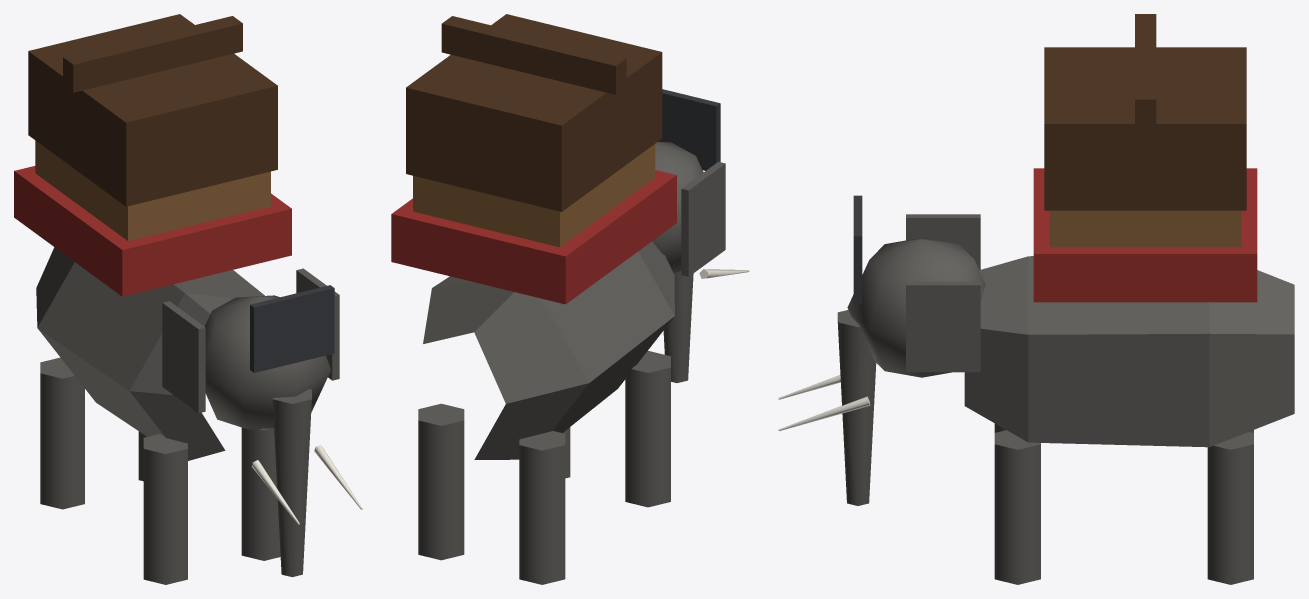
Rendered from unit_mil_war_elephant_a03_lod1.glb.
3 views of the same model, side by side, from view 1: azimuth 30°, elevation 25°; view 2: azimuth 150°, elevation 25°; view 3: azimuth 270°, elevation 25° (orthographic). The views are drawn at different scales.
Parts seen in each view (by area): view 1: body; view 2: body; view 3: body.
Boxes of the visible parts, x1,y1,x2,y2 form: body: (14, 14, 362, 584); body: (391, 14, 749, 584); body: (778, 14, 1294, 584).
Bounding box in the file's own units: 1.9 × 5.1 × 4.85.
